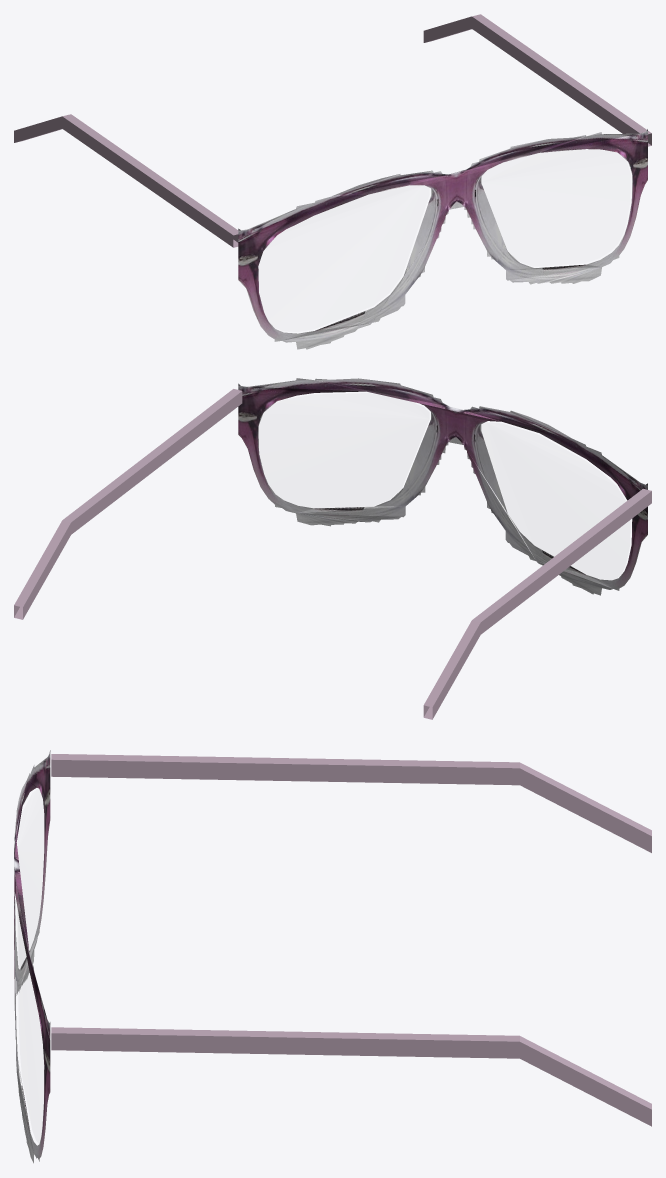
Rendered from gothamstyle-30_purple.glb.
3 views of the same model, one above another, from view 1: azimuth 30°, elevation 25°; view 2: azimuth 150°, elevation 25°; view 3: azimuth 270°, elevation 25° (orthographic). The views are drawn at different scales.
Parts seen in each view (by area): view 1: frame_front, temple_viewer_left, temple_viewer_right; view 2: frame_front, temple_viewer_left, temple_viewer_right; view 3: temple_viewer_right, temple_viewer_left, frame_front.
Boxes of the visible parts, x1,y1,x2,y2 form: frame_front: (238,129,647,349); temple_viewer_left: (14,114,238,247); temple_viewer_right: (423,14,651,146); frame_front: (238,378,647,595); temple_viewer_left: (423,488,651,719); temple_viewer_right: (14,389,242,619); temple_viewer_right: (51,1027,651,1126); temple_viewer_left: (51,754,651,852); frame_front: (14,750,50,1163).
Size of the model in its own units: 0.1409 by 0.051 by 0.136.
Materials: 3 (2 with a texture image).
